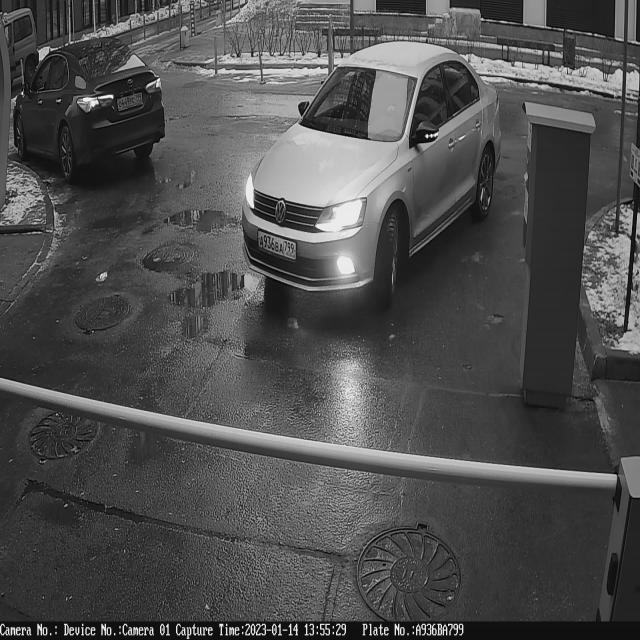car-plate-numbers: (257, 228, 299, 266)
